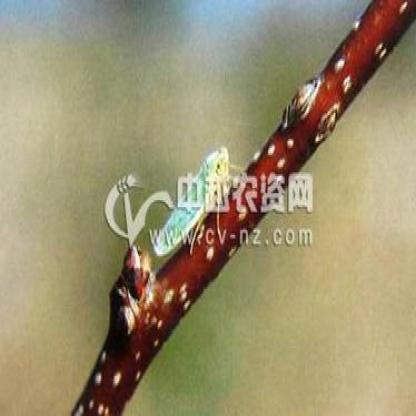Green-Leafhopper: (150, 142, 240, 258)
